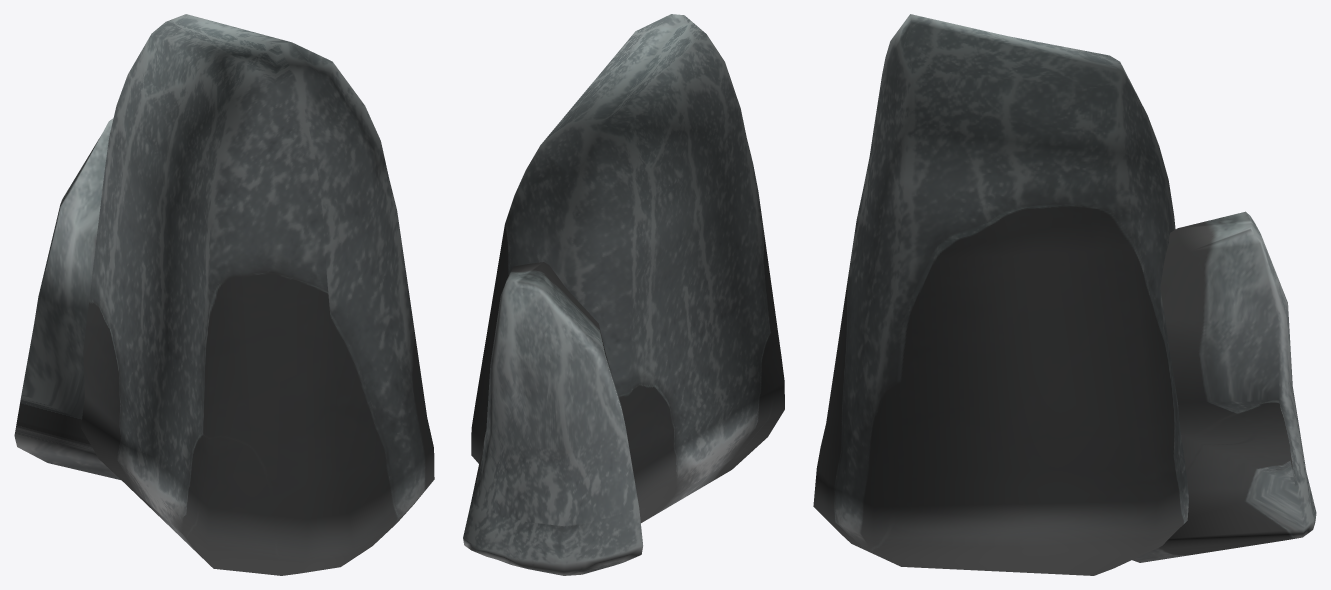
The model's file is rock.fbx.
The picture shows the model from 3 angles, left to right: view 1: azimuth 30°, elevation 25°; view 2: azimuth 150°, elevation 25°; view 3: azimuth 270°, elevation 25°; orthographic projection. The views are drawn at different scales.
Parts seen in each view (by area): view 1: Low1; view 2: Low1; view 3: Low1.
Boxes of the visible parts, box(x1,y1,x2,y2) form: Low1: box(14, 14, 434, 575); Low1: box(463, 14, 784, 575); Low1: box(813, 14, 1316, 575).
Size of the model in its own units: 110 by 227 by 195.
1 material, 1 textured.
